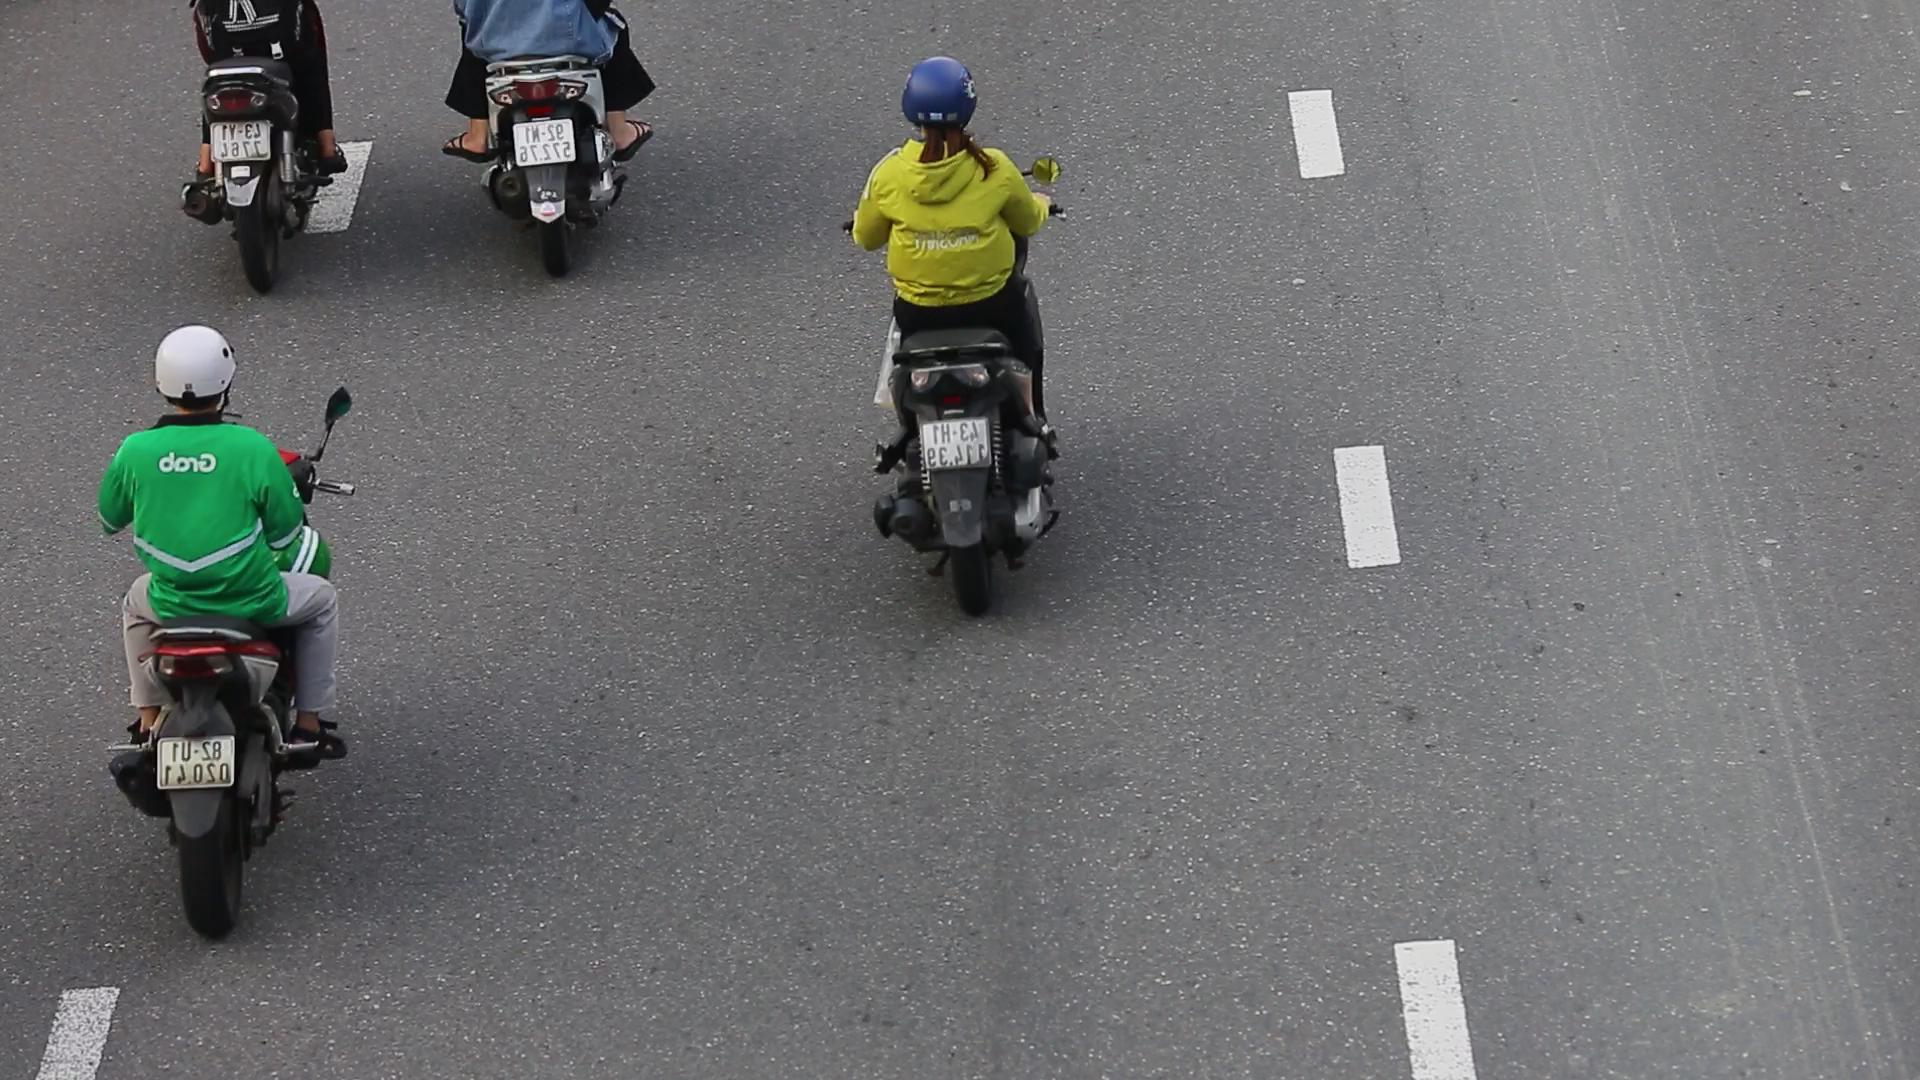motobike: (82, 298, 356, 940), (847, 36, 1060, 625)
